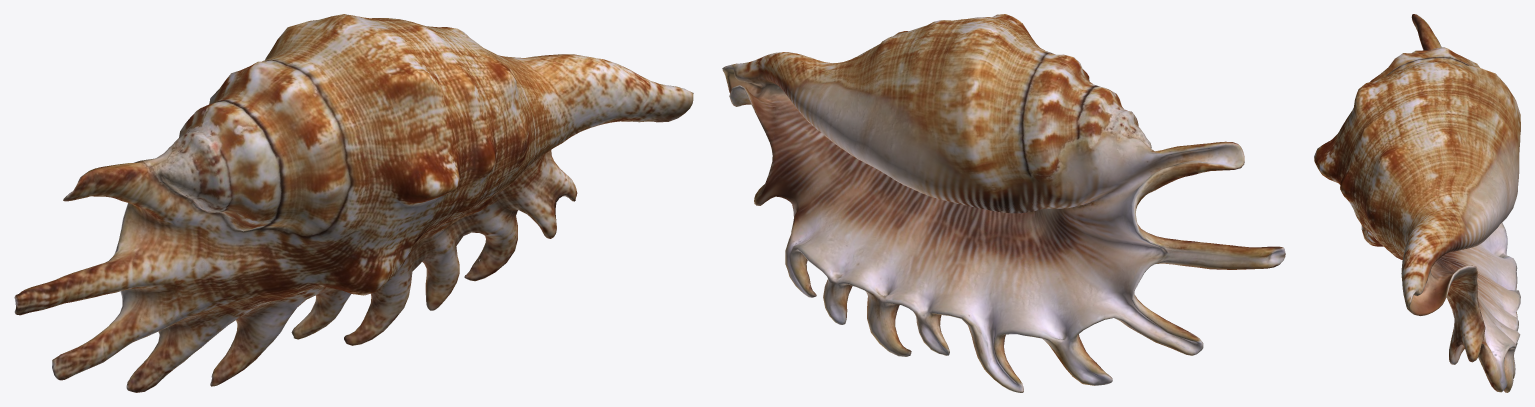
Rendered from shell.glb.
3 views of the same model, side by side, from view 1: azimuth 30°, elevation 25°; view 2: azimuth 150°, elevation 25°; view 3: azimuth 270°, elevation 25° (orthographic). The views are drawn at different scales.
Visible parts, largest first — view 1: shell; view 2: shell; view 3: shell.
Part boxes in pixels (x1,y1,x2,y2): shell: (14,14,693,392); shell: (722,14,1285,392); shell: (1314,14,1520,392).
Size of the model in its own units: 0.3 by 0.1603 by 0.1.
1 material, 1 textured.
